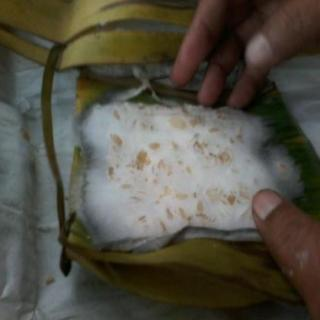Tempe: (75, 99, 298, 255)
